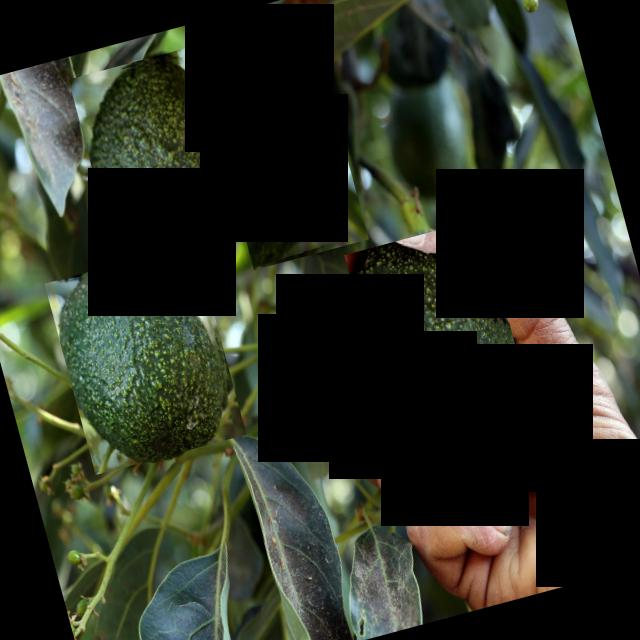avocado: (44, 243, 246, 475), (344, 217, 536, 458), (198, 28, 368, 270), (69, 44, 248, 262)
